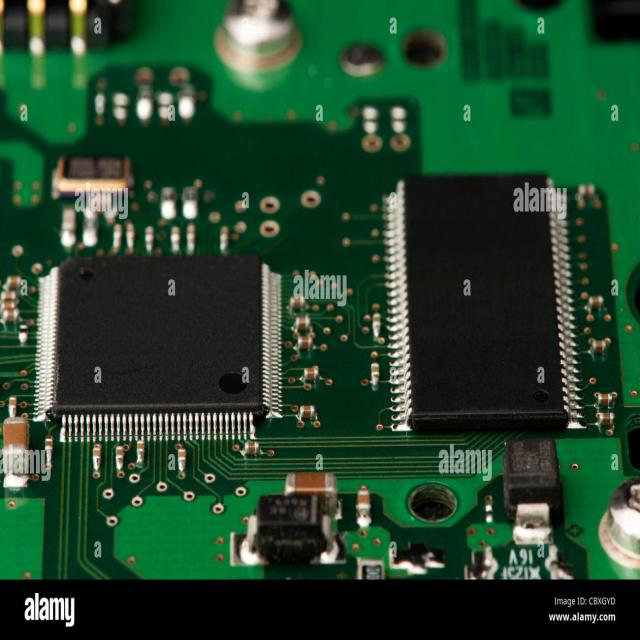pcb: (2, 1, 638, 584), (4, 422, 636, 580)
